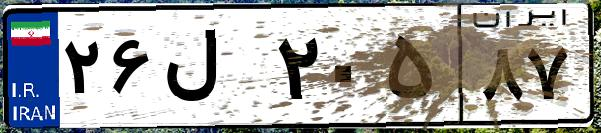0: (330, 28, 385, 110)
2: (270, 28, 330, 110), (57, 26, 110, 100)
5: (385, 28, 445, 110)
6: (110, 28, 158, 98)
7: (525, 38, 570, 115)
8: (475, 38, 525, 113)
ل: (158, 20, 270, 120)
